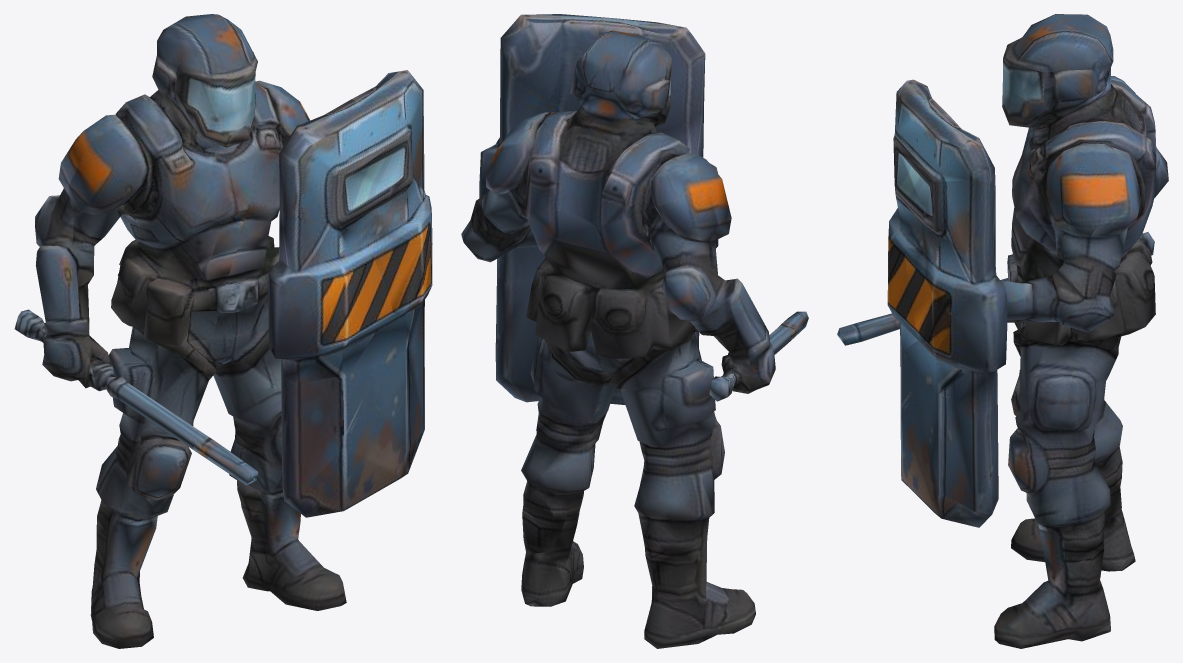
The model's file is melee.glb.
The picture shows the model from 3 angles, left to right: view 1: azimuth 30°, elevation 25°; view 2: azimuth 150°, elevation 25°; view 3: azimuth 270°, elevation 25°; orthographic projection. The views are drawn at different scales.
Parts seen in each view (by area): view 1: human-melee; view 2: human-melee; view 3: human-melee.
Part boxes in pixels (bbox=[...]): human-melee: bbox=[14, 14, 432, 648]; human-melee: bbox=[461, 14, 808, 648]; human-melee: bbox=[837, 14, 1168, 648].
Bounding box in the file's own units: 0.8242 × 1.35 × 0.7033.
Materials: 1 (1 with a texture image).
